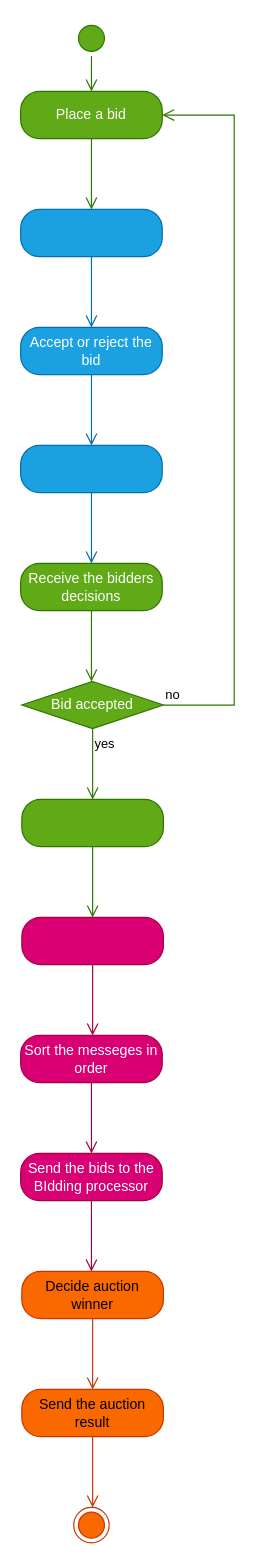
Some shapes in this 267 by 1563 pixel diagram are drawn without their labels. Here are the shapes that lost their labels. From the top down, the centre of each, then its label:
At (x=90, y=232): "Receive a bid".
At (x=90, y=468): "Send the decision".
At (x=92, y=822): "Send the finish message".
At (x=92, y=940): "Recieive the bidds and final messages".
